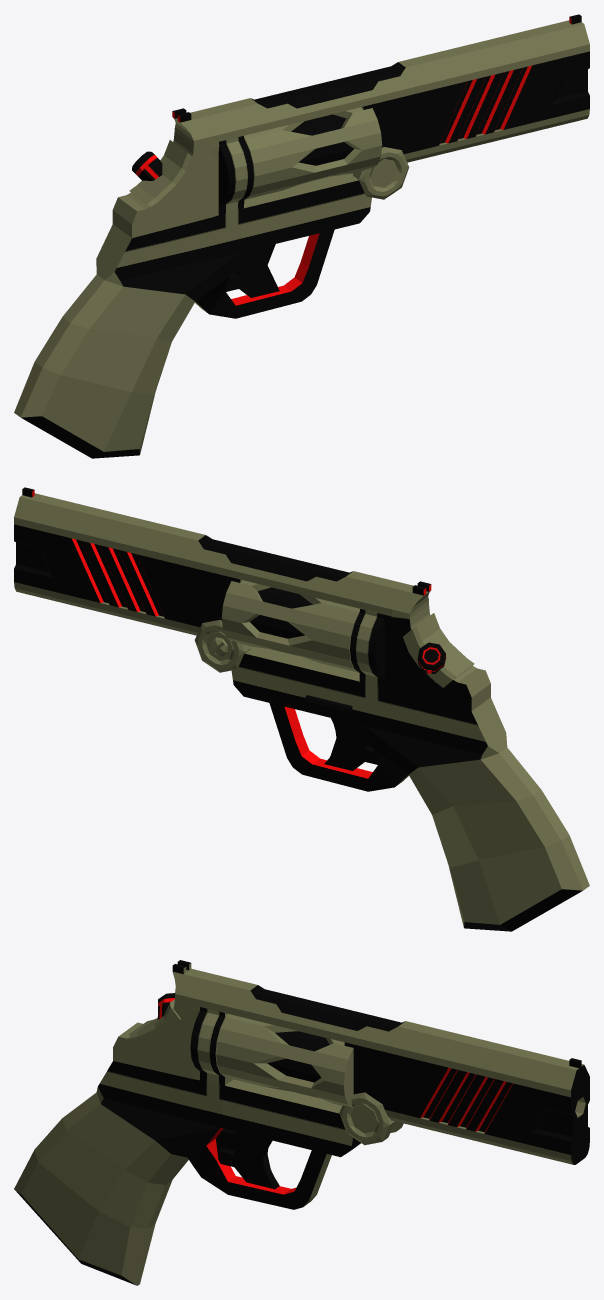
File: gan_model.obj
3 renders of one model, top to bottom at view 1: azimuth 30°, elevation 25°; view 2: azimuth 150°, elevation 25°; view 3: azimuth 330°, elevation 25°, orthographic.
Visible parts, largest first — view 1: Cube_Cube.005, Cube.002_Cube.001, Cylinder.001_Cylinder.006, Cube.008_Cube.009, Cylinder.002_Cylinder.007, Cube.005_Cube.007, Object_Cylinder, Cylinder.005_Cylinder.004, Cylinder.003_Cylinder.002; view 2: Cube_Cube.005, Cube.002_Cube.001, Cylinder.001_Cylinder.006, Cylinder.002_Cylinder.007, Cube.008_Cube.009, Cube.005_Cube.007, Object_Cylinder, Cylinder.005_Cylinder.004; view 3: Cube_Cube.005, Cube.002_Cube.001, Cylinder.001_Cylinder.006, Cylinder.002_Cylinder.007, Cube.005_Cube.007, Object_Cylinder, Cube.008_Cube.009, Cylinder.003_Cylinder.002.
Boxes of the visible parts, box(x1,y1,x2,y2) form: Cube_Cube.005: box(14, 108, 371, 458); Cube.002_Cube.001: box(198, 14, 589, 162); Cylinder.001_Cylinder.006: box(244, 114, 347, 199); Cube.008_Cube.009: box(129, 140, 200, 214); Cylinder.002_Cylinder.007: box(332, 107, 382, 176); Cube.005_Cube.007: box(225, 244, 279, 297); Object_Cylinder: box(353, 147, 409, 199); Cylinder.005_Cylinder.004: box(132, 151, 162, 180); Cylinder.003_Cylinder.002: box(370, 159, 397, 187); Cube_Cube.005: box(229, 581, 589, 931); Cube.002_Cube.001: box(14, 487, 405, 635); Cylinder.001_Cylinder.006: box(256, 587, 359, 672); Cylinder.002_Cylinder.007: box(221, 580, 271, 649); Cube.008_Cube.009: box(403, 613, 474, 687); Cube.005_Cube.007: box(324, 718, 378, 770); Object_Cylinder: box(194, 620, 250, 672); Cylinder.005_Cylinder.004: box(417, 642, 446, 673); Cube_Cube.005: box(14, 960, 360, 1285); Cube.002_Cube.001: box(192, 972, 589, 1164); Cylinder.001_Cylinder.006: box(216, 1014, 325, 1098); Cylinder.002_Cylinder.007: box(311, 1037, 353, 1107); Cube.005_Cube.007: box(216, 1129, 279, 1189); Object_Cylinder: box(339, 1092, 403, 1145); Cube.008_Cube.009: box(129, 999, 180, 1050); Cylinder.003_Cylinder.002: box(350, 1104, 378, 1133).
Size of the model in its own units: 0.2251 by 0.1266 by 0.0272.
